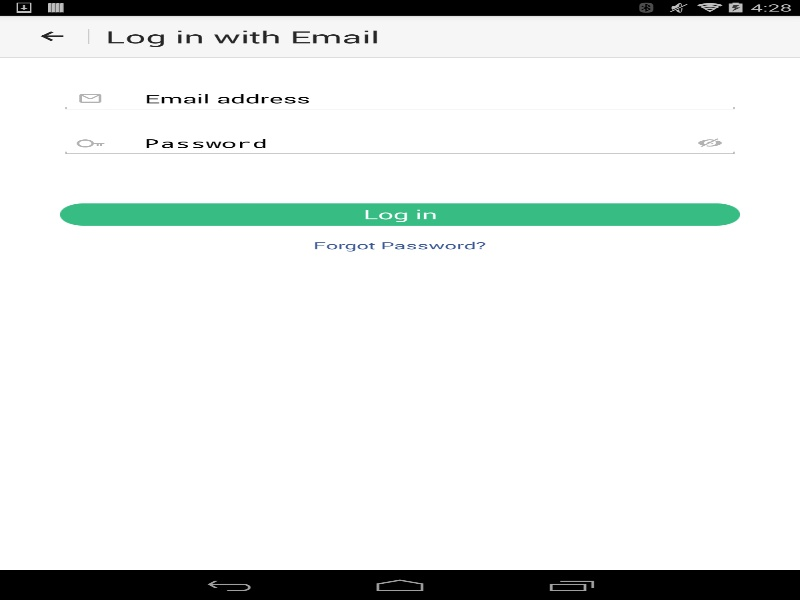Input: (60, 85, 740, 111), (60, 130, 740, 156)
